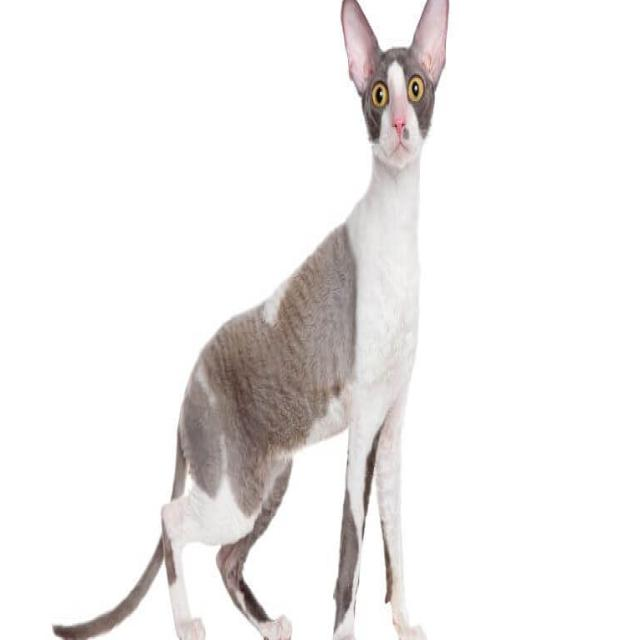Cornish Rex: (49, 0, 452, 640)
